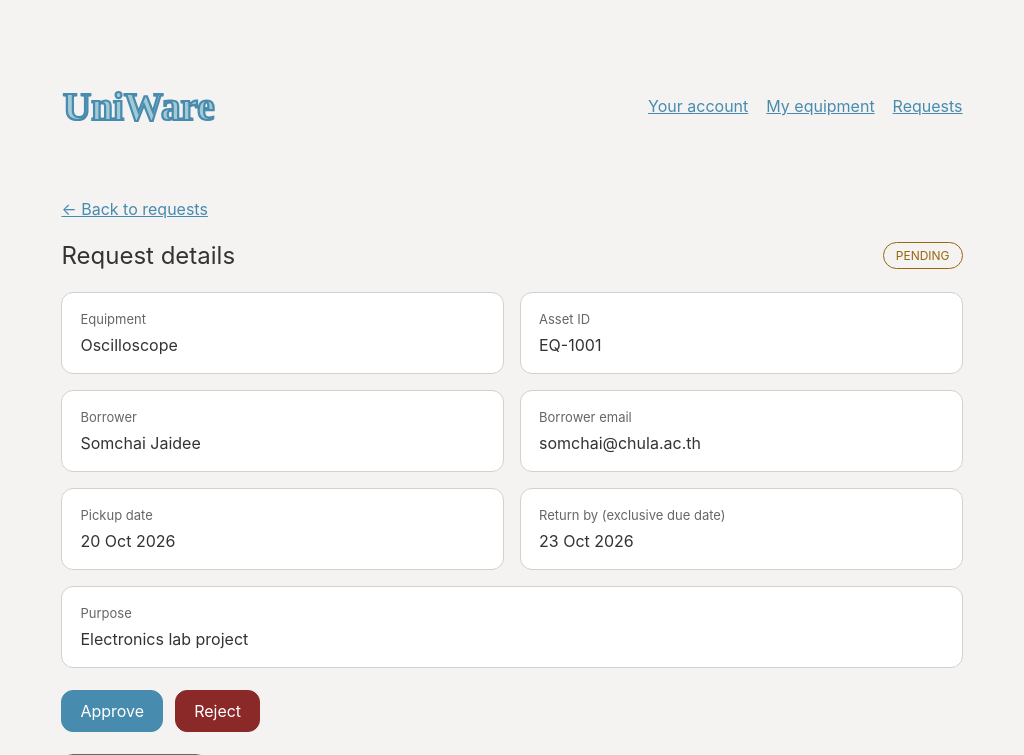
Scenario: US5-2 / US5-3 / US5-4 provider decisions › shows 409 conflict and reloads the latest status (e.g. already decided elsewhere)
expect the text "Electronics lab project" is shown: met, box top-left (80, 629), bottom-right (248, 649)
Click the button "Approve".
click(112, 711)  # box top-left (61, 690), bottom-right (163, 732)
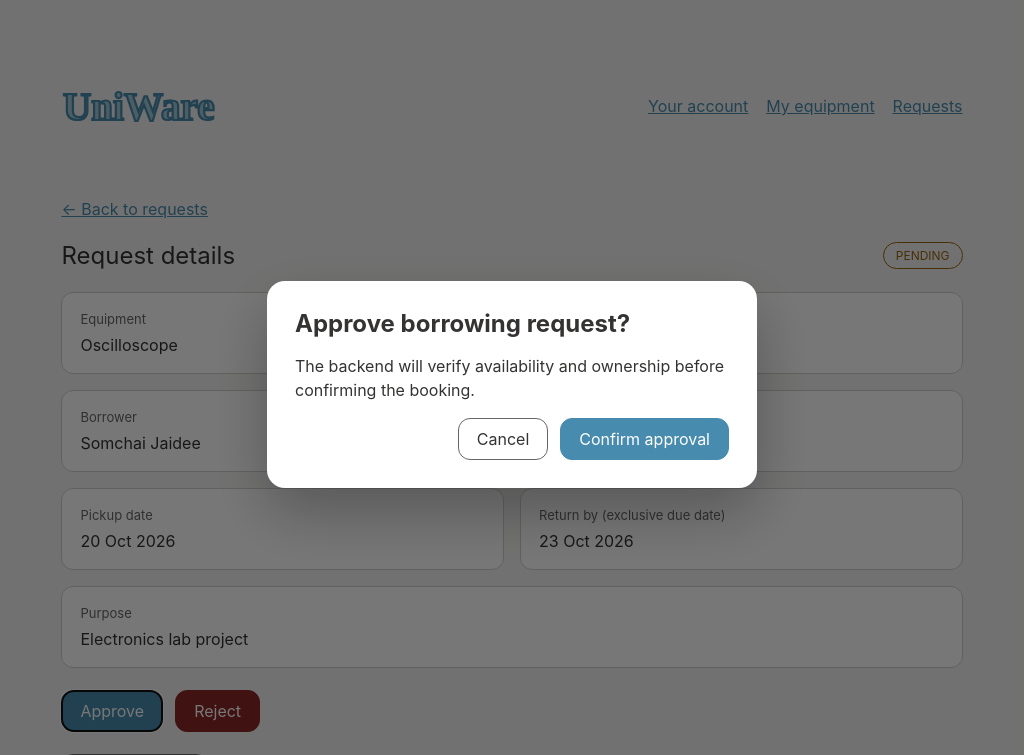
Click the button "Confirm approval".
click(645, 438)  # box top-left (560, 418), bottom-right (729, 460)
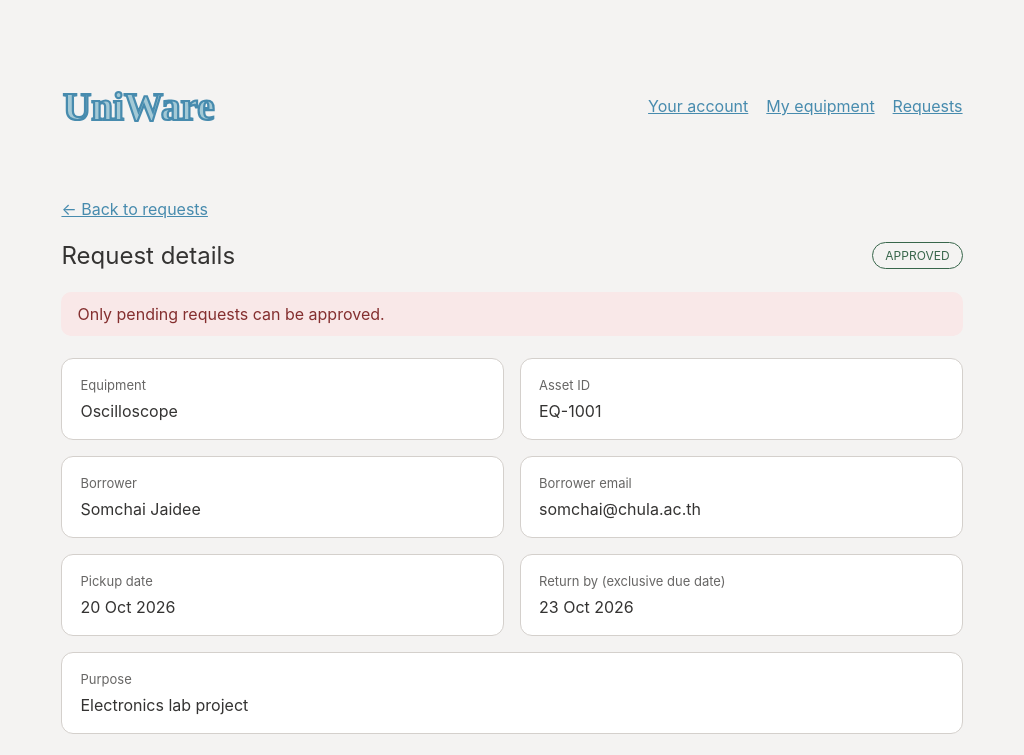
expect the message reads "Only pending requests can be approved.": met, box top-left (77, 304), bottom-right (385, 324)
expect the text "APPROVED" is shown: met, box top-left (872, 242), bottom-right (963, 269)
expect the dialog is gone: met
